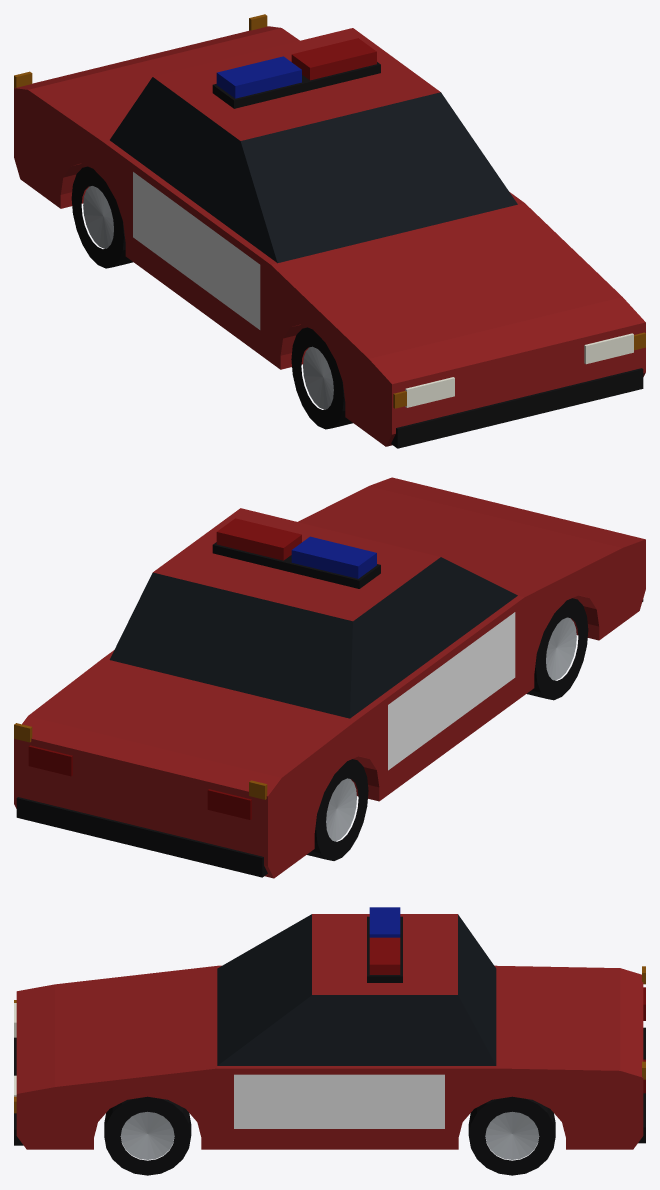
The model's file is body.glb.
3 views of the same model, one above another, from view 1: azimuth 30°, elevation 25°; view 2: azimuth 150°, elevation 25°; view 3: azimuth 270°, elevation 25° (orthographic). The views are drawn at different scales.
Parts seen in each view (by area): view 1: shell, cabin, doors, trim, wheel_RR, wheel_RF, lightbar_blue, lightbar_red, lightbar_base, headlight_L, headlight_R; view 2: shell, cabin, doors, trim, wheel_RF, wheel_RR, lightbar_blue, lightbar_red, lightbar_base, taillight_L, taillight_R; view 3: shell, cabin, doors, wheel_LF, wheel_LR, lightbar_red, lightbar_blue, lightbar_base, trim.
Part boxes in pixels (box(x1,y1,x2,y2)): shell: box(14, 26, 645, 446); cabin: box(110, 28, 517, 263); doors: box(133, 172, 260, 329); trim: box(391, 368, 643, 448); wheel_RR: box(71, 166, 133, 268); wheel_RF: box(291, 327, 352, 429); lightbar_blue: box(216, 56, 301, 98); lightbar_red: box(291, 38, 376, 80); lightbar_base: box(212, 62, 380, 108); headlight_L: box(584, 333, 633, 364); headlight_R: box(405, 377, 454, 407); shell: box(14, 477, 645, 878); cabin: box(109, 508, 517, 718); doors: box(388, 612, 515, 770); trim: box(16, 599, 643, 877); wheel_RF: box(527, 598, 588, 700); wheel_RR: box(307, 759, 368, 860); lightbar_blue: box(291, 536, 376, 578); lightbar_red: box(216, 518, 301, 560); lightbar_base: box(212, 542, 380, 588); taillight_L: box(28, 745, 72, 776); taillight_R: box(207, 789, 251, 819); shell: box(16, 965, 643, 1149); cabin: box(217, 914, 496, 1065); doors: box(234, 1074, 444, 1128); wheel_LF: box(104, 1096, 191, 1175); wheel_LR: box(468, 1096, 555, 1175); lightbar_red: box(369, 937, 400, 974); lightbar_blue: box(369, 907, 400, 937); lightbar_base: box(367, 916, 402, 982); trim: box(14, 1027, 645, 1145).
Size of the model in its own units: 1.91 by 1.64 by 4.94.
